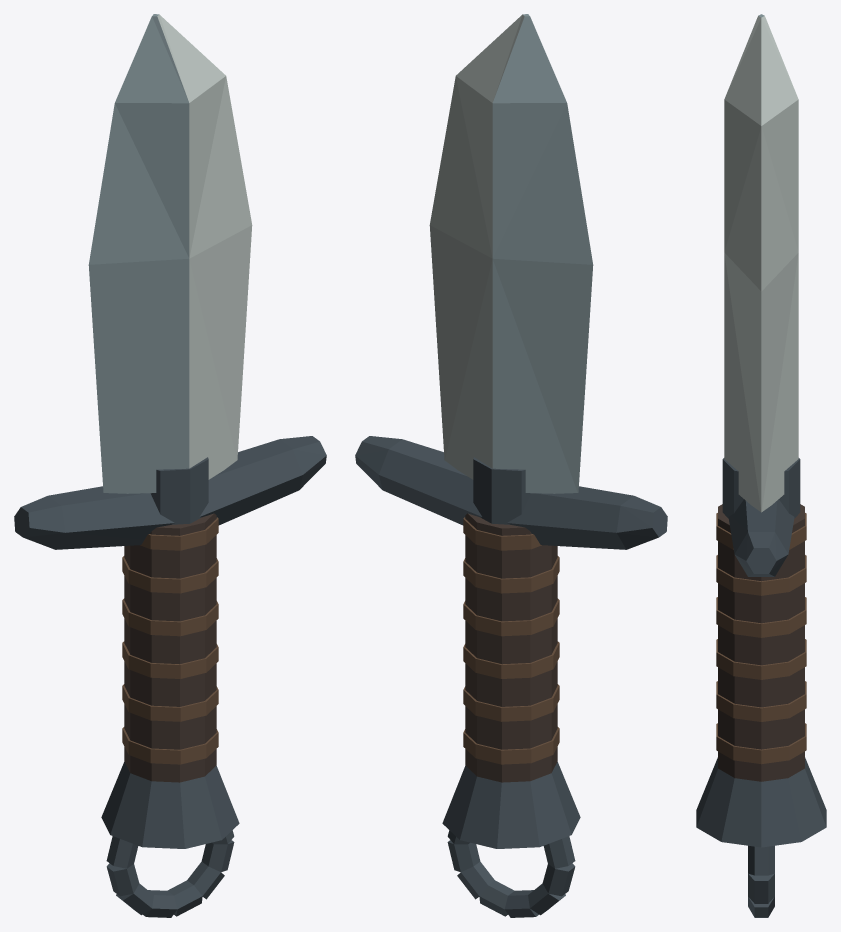
Rendered from AEW_Dagger_Ratcatcher.fbx.
The picture shows the model from 3 angles, left to right: view 1: azimuth 30°, elevation 25°; view 2: azimuth 150°, elevation 25°; view 3: azimuth 270°, elevation 25°; orthographic projection.
Visible parts, largest first — view 1: AEW_Dagger_Ratcatcher; view 2: AEW_Dagger_Ratcatcher; view 3: AEW_Dagger_Ratcatcher.
Boxes of the visible parts, x1=… form: AEW_Dagger_Ratcatcher: x1=14, y1=14, x2=326, y2=917; AEW_Dagger_Ratcatcher: x1=355, y1=14, x2=667, y2=917; AEW_Dagger_Ratcatcher: x1=696, y1=14, x2=826, y2=917.
Bounding box in the file's own units: 0.2038 × 0.5807 × 0.077.
